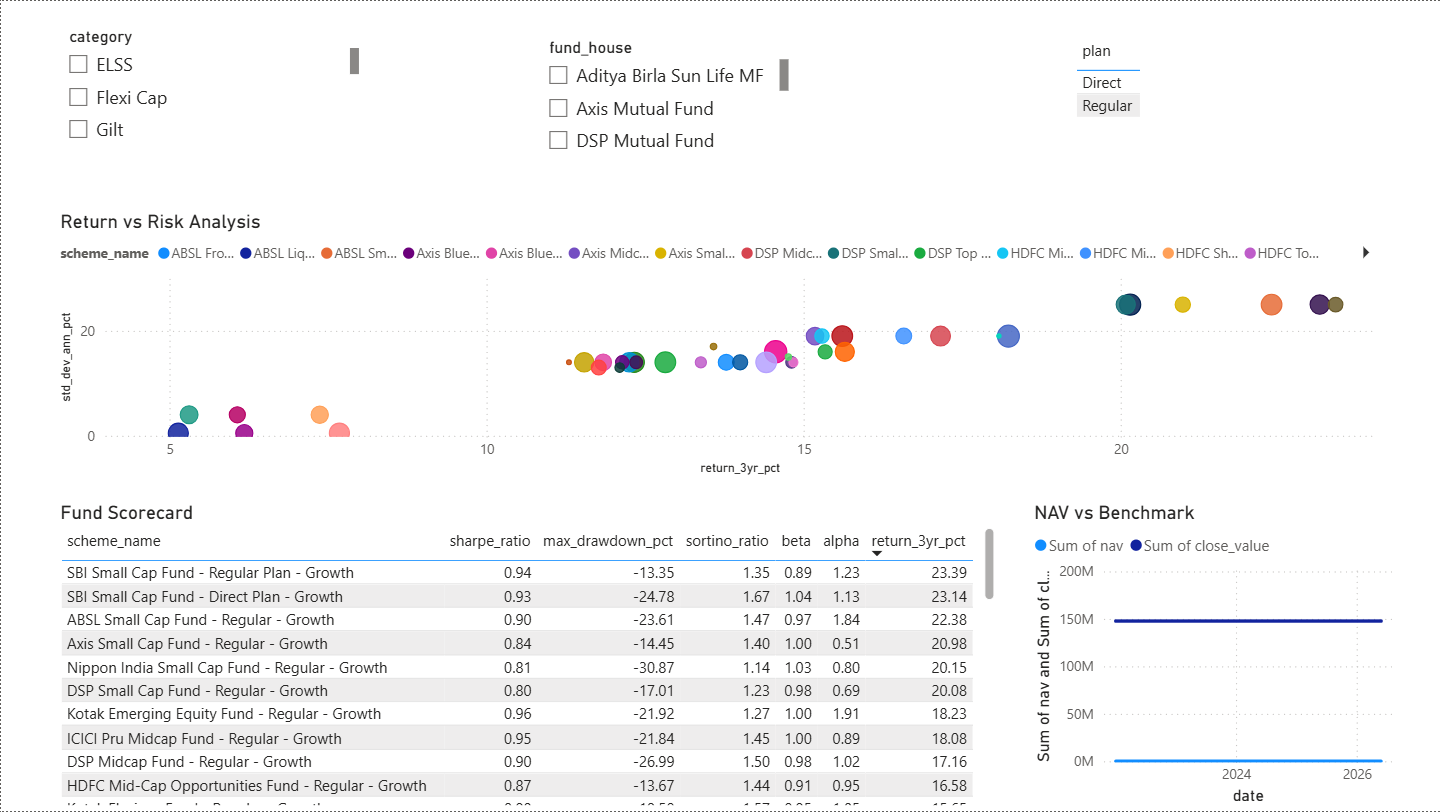

The dashboard page shown, as its layout file describes it:
{"tool":"powerbi","page":{"name":"Fund Performance","canvas":[1280,720],"ordinal":1},"visuals":[{"type":"scatterChart","title":"Return vs Risk Analysis","fields":{"X":["07_scheme_performance_cleaned.return_3yr_pct"],"Y":["07_scheme_performance_cleaned.std_dev_ann_pct"],"Size":["Sum(07_scheme_performance_cleaned.aum_crore)"],"Series":["07_scheme_performance_cleaned.scheme_name"]},"box":[47.6,185.9,1185.1,240.9],"z":0},{"type":"tableEx","title":"Fund Scorecard","fields":{"Values":["07_scheme_performance_cleaned.scheme_name","07_scheme_performance_cleaned.sharpe_ratio","07_scheme_performance_cleaned.max_drawdown_pct","07_scheme_performance_cleaned.sortino_ratio","07_scheme_performance_cleaned.beta","07_scheme_performance_cleaned.alpha","07_scheme_performance_cleaned.return_3yr_pct"]},"box":[47.6,444.6,840.2,275.1],"z":1000},{"type":"lineChart","title":"NAV vs Benchmark","fields":{"Y":["Sum(02_nav_history_cleaned.nav)","Sum(10_benchmark_indices_cleaned.close_value)"],"Category":["02_nav_history_cleaned.date"]},"box":[913,444.6,331.6,275.1],"z":2000},{"type":"slicer","fields":{"Values":["07_scheme_performance_cleaned.fund_house"]},"box":[474.4,28.3,230.5,119],"z":3000},{"type":"slicer","fields":{"Values":["07_scheme_performance_cleaned.category"]},"box":[47.6,17.8,275.1,119],"z":4000},{"type":"tableEx","fields":{"Values":["07_scheme_performance_cleaned.plan"]},"box":[950.2,28.3,230.5,129.4],"z":5000}]}

Visuals, with their boxes in screenshot pixels (x1, y1, x2, y2), scaled from the page's 1280x720 canvas onto the 1441x812 screenshot:
"Return vs Risk Analysis" scatterChart: (54,210,1388,481)
"Fund Scorecard" tableEx: (54,501,999,811)
"NAV vs Benchmark" lineChart: (1028,501,1401,811)
slicer - 07_scheme_performance_cleaned.fund_house: (534,32,794,166)
slicer - 07_scheme_performance_cleaned.category: (54,20,363,154)
tableEx - 07_scheme_performance_cleaned.plan: (1070,32,1329,178)
